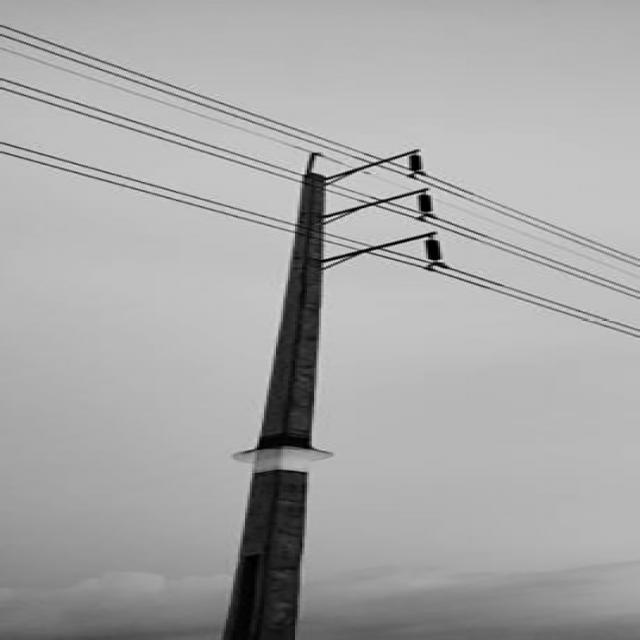pole: (184, 130, 467, 640)
